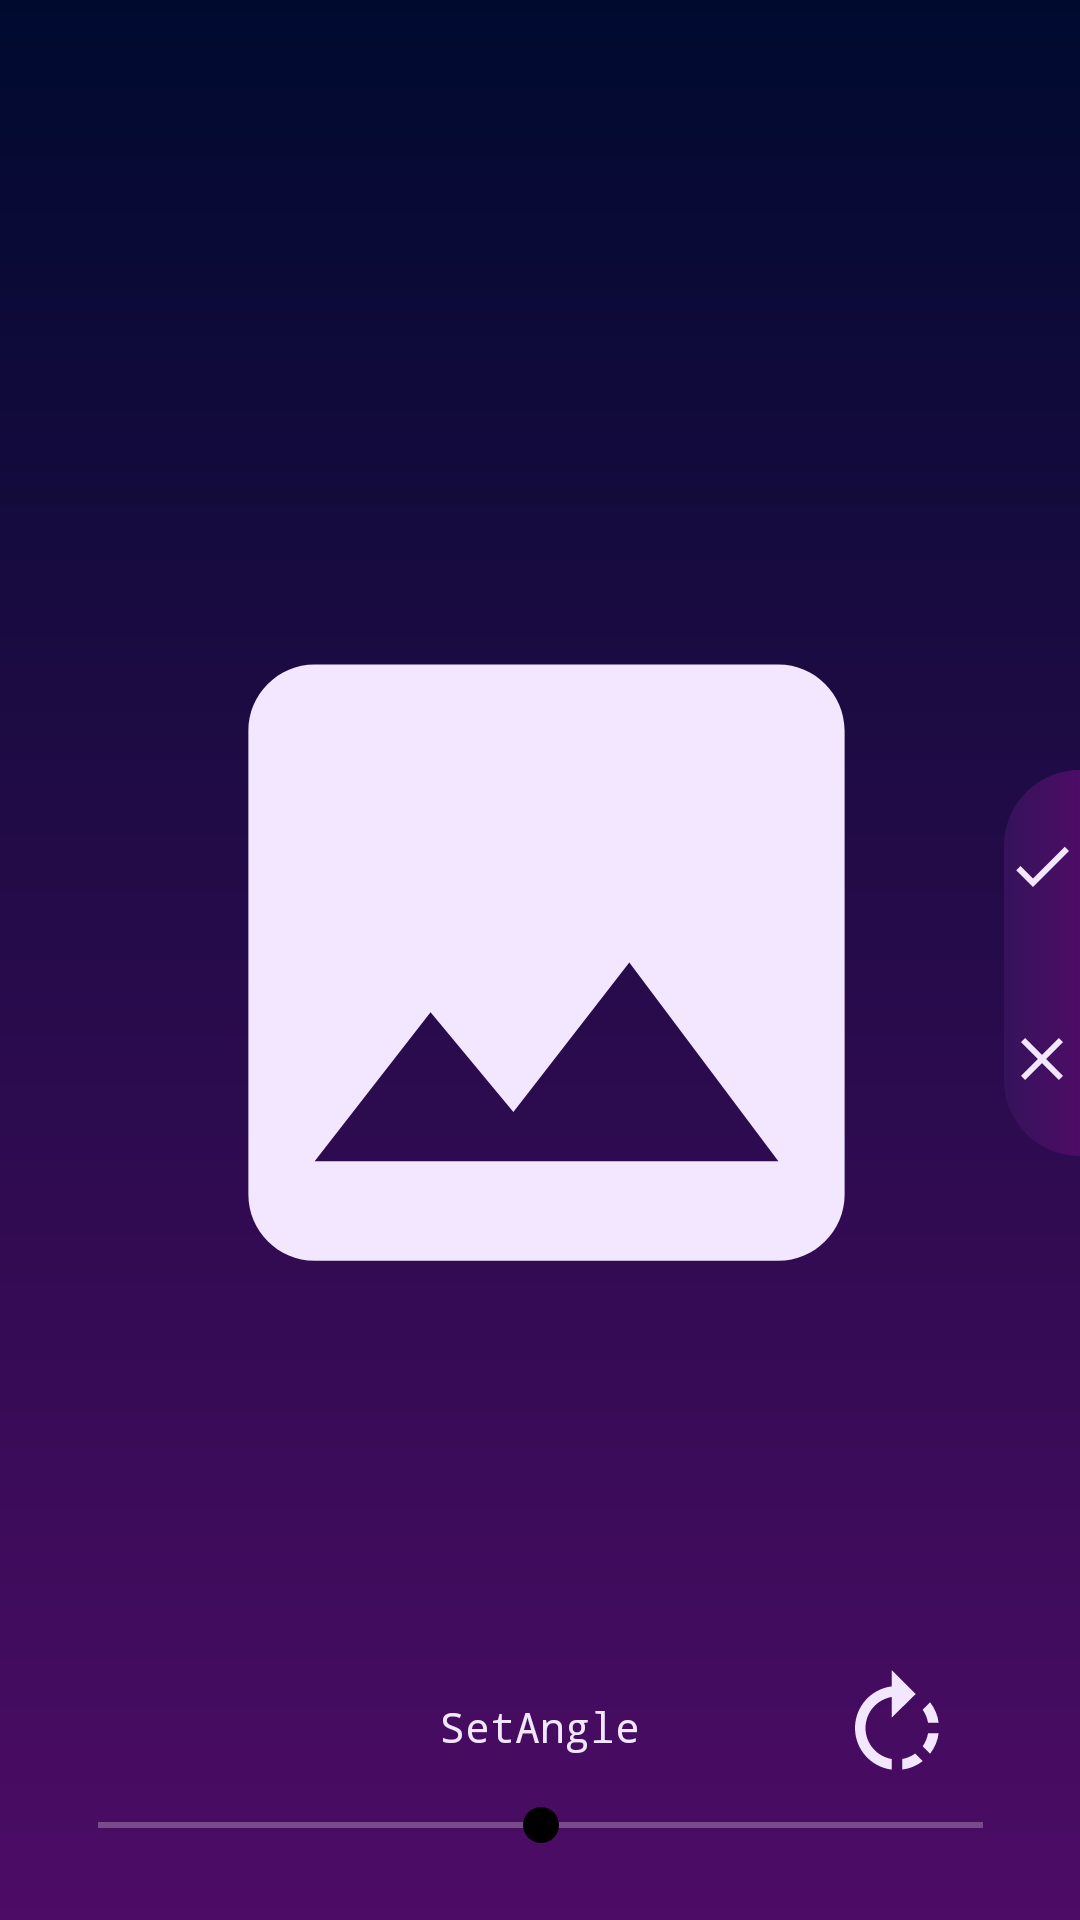

Screen size 1080 x 1920. Icon name, then its center in pixels as (x=x, y=y):
check: (x=1048, y=865)
clear: (x=1050, y=1058)
rotate right: (x=897, y=1720)
